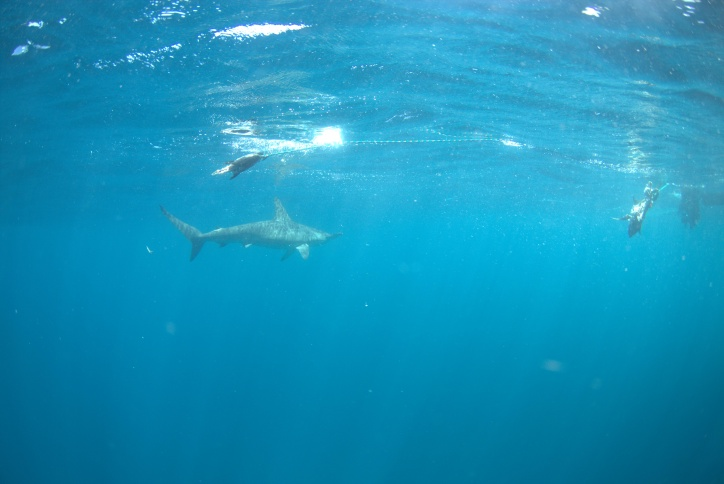Hammer: (142, 175, 380, 288)
